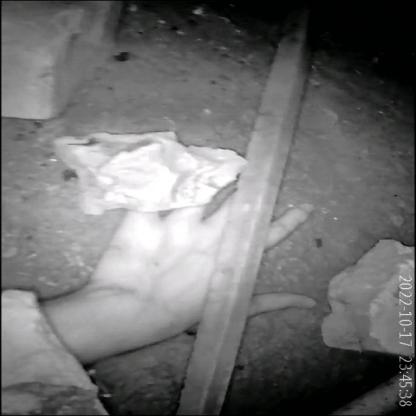hand: (60, 137, 348, 395)
